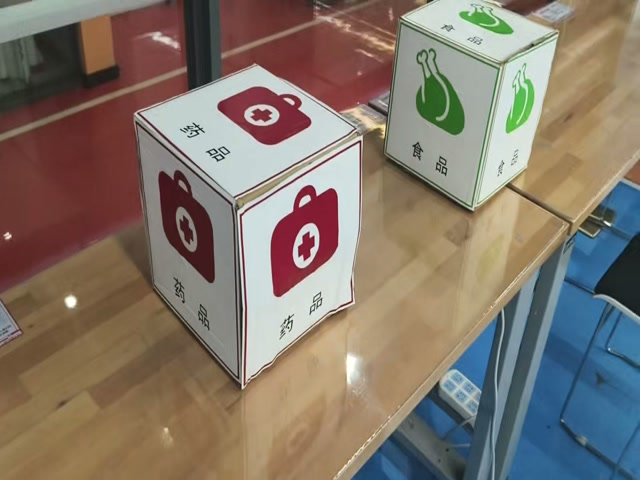Cube_food: (397, 0, 552, 70)
Cube_medicine: (135, 66, 371, 208)
